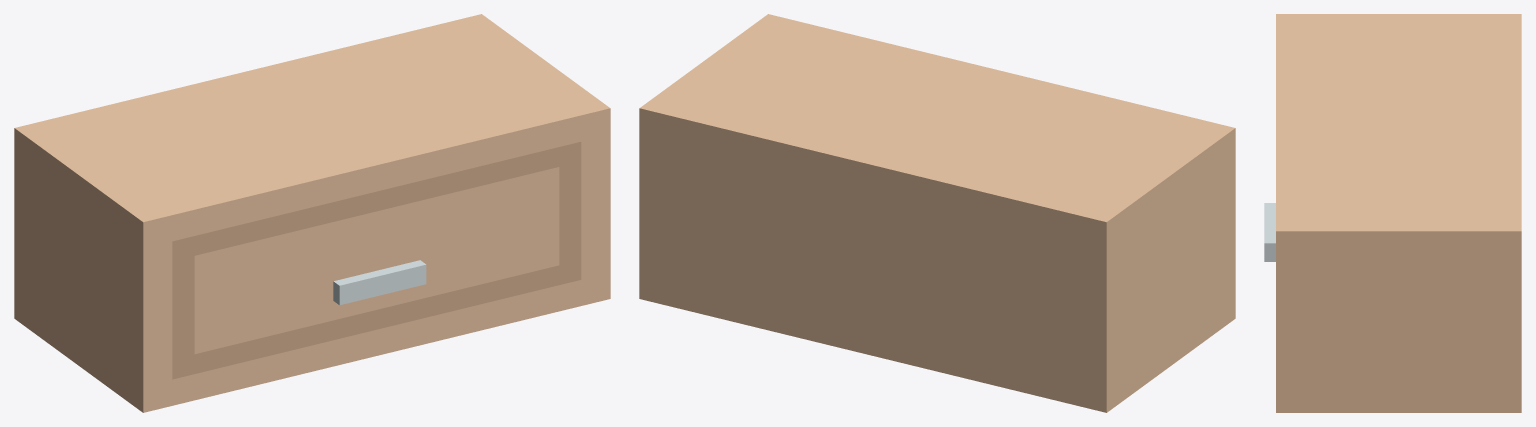
File: kitchenCabinetUpperLow-col.glb
3 views of the same model, side by side, from view 1: azimuth 30°, elevation 25°; view 2: azimuth 150°, elevation 25°; view 3: azimuth 270°, elevation 25° (orthographic). The views are drawn at different scales.
Parts seen in each view (by area): view 1: kitchenCabinetUpperLow-col; view 2: kitchenCabinetUpperLow-col; view 3: kitchenCabinetUpperLow-col.
Part boxes in pixels (bbox=[...]): kitchenCabinetUpperLow-col: bbox=[14, 14, 610, 412]; kitchenCabinetUpperLow-col: bbox=[639, 14, 1235, 412]; kitchenCabinetUpperLow-col: bbox=[1264, 14, 1521, 412].
Size of the model in its own units: 0.5 by 0.195 by 0.25.
